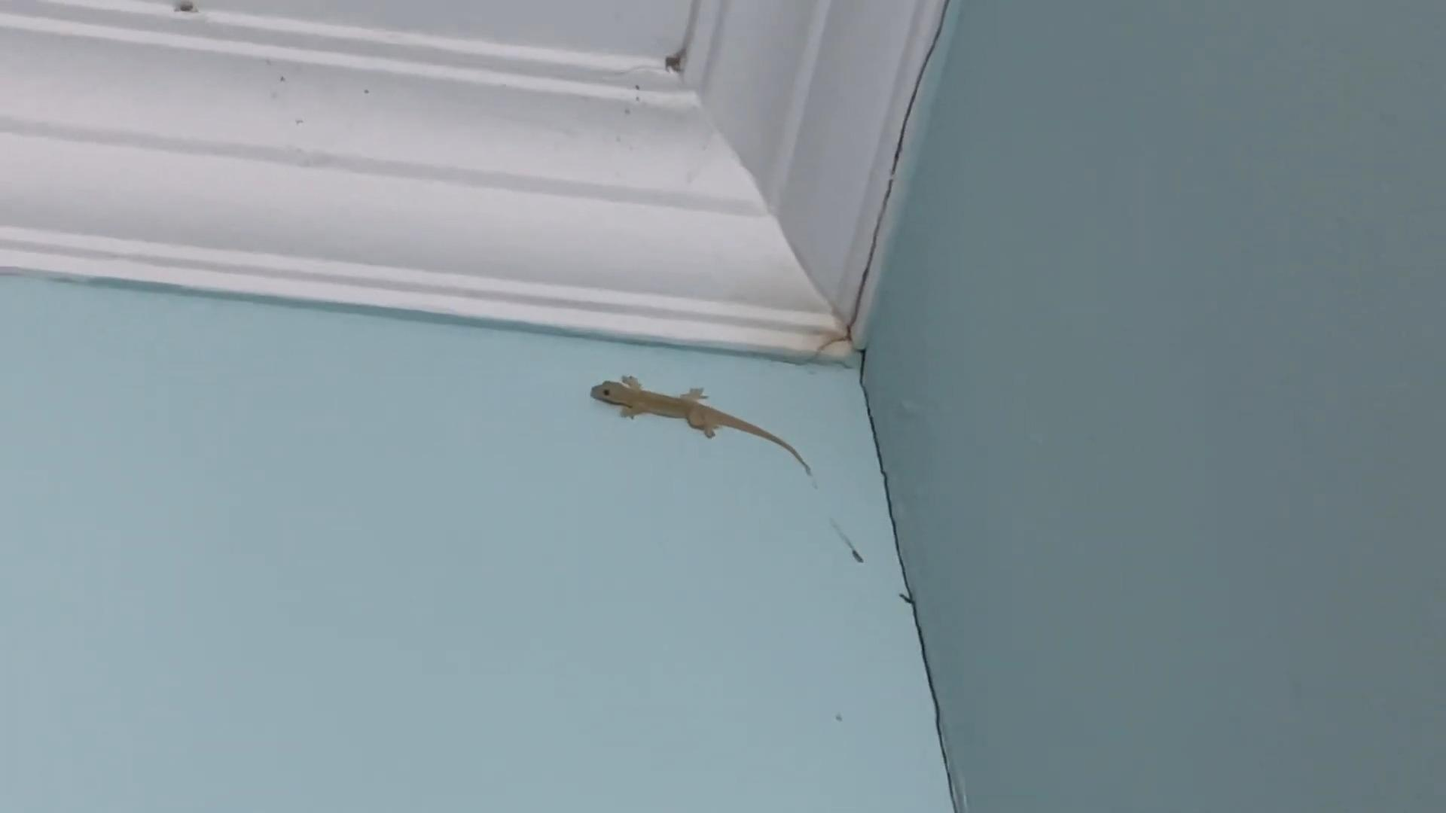lizard: (584, 364, 808, 479)
